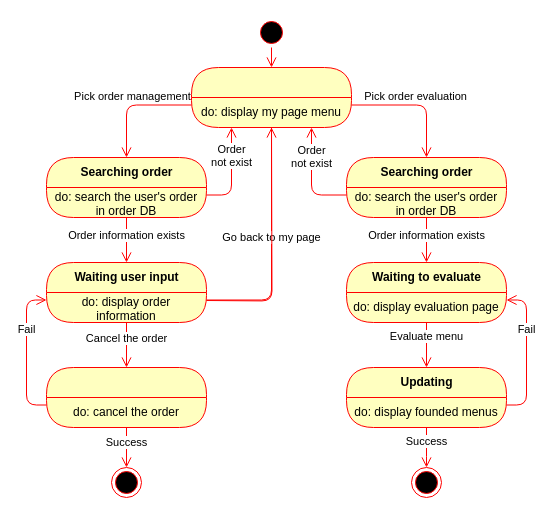
The diagram is 554 pixels wide and 515 high, and some of its shapes have lost their labels. Here are the shapes that lost their labels. From the top down, the box of each, then its label:
(190, 66, 352, 128): Waiting
(46, 366, 206, 428): Canceling
